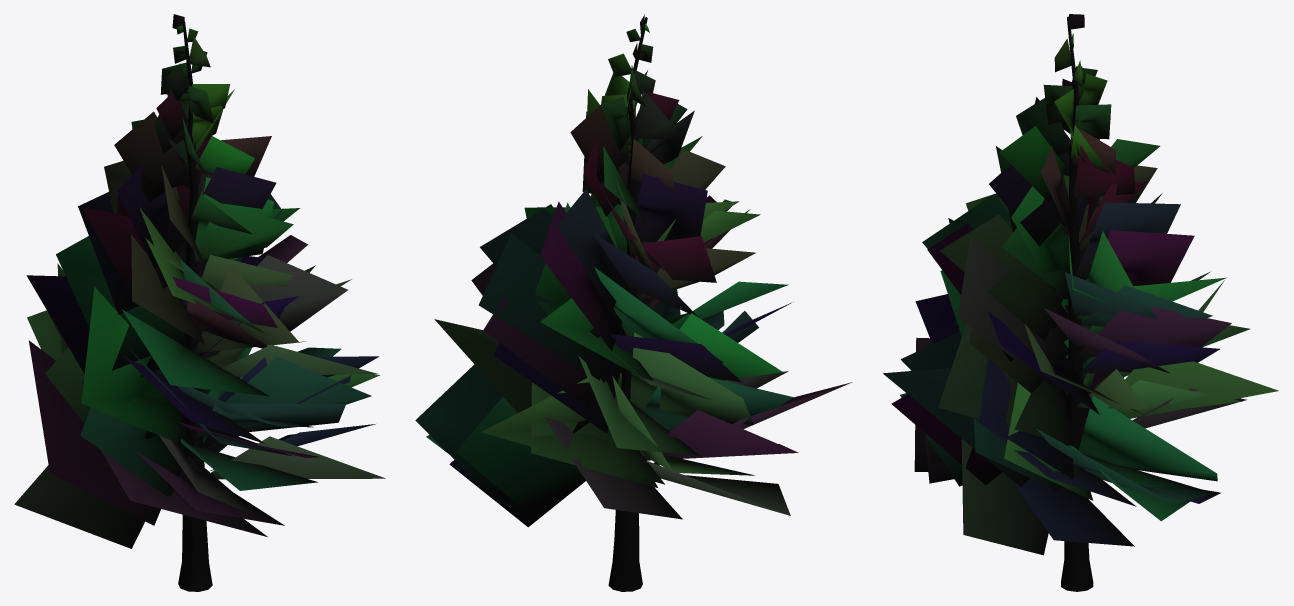
File: Pine2.FBX
3 renders of one model, left to right at view 1: azimuth 30°, elevation 25°; view 2: azimuth 150°, elevation 25°; view 3: azimuth 270°, elevation 25°, orthographic.
Visible parts, largest first — view 1: Tree_0; view 2: Tree_0; view 3: Tree_0.
Part boxes in pixels (bbox=[...]): Tree_0: bbox=[14, 14, 385, 591]; Tree_0: bbox=[415, 14, 852, 591]; Tree_0: bbox=[883, 14, 1278, 591].
Size of the model in its own units: 70.63 by 113 by 72.08.
